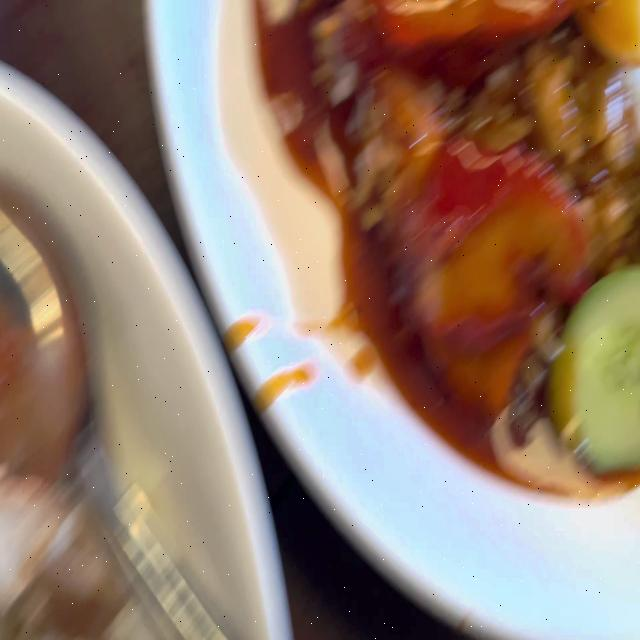cucumber: (552, 268, 640, 455)
red_pork: (389, 124, 566, 380), (348, 0, 554, 75)
red_pork_and_crispy_pork: (278, 0, 640, 491)
